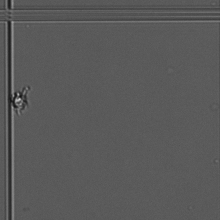Living Cell: (12, 86, 35, 115)
